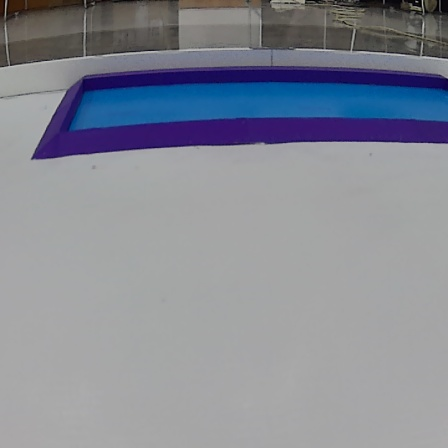blue_aim: (30, 63, 448, 164)
